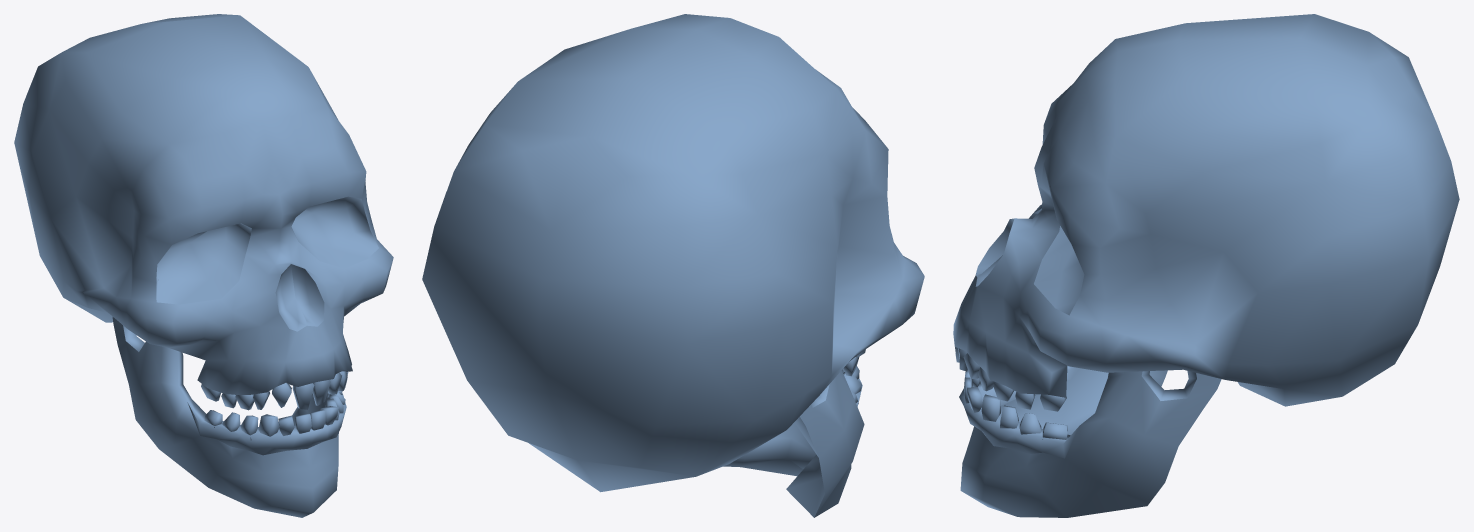
The model's file is skull_medium_mesh.FBX.
3 renders of one model, left to right at view 1: azimuth 30°, elevation 25°; view 2: azimuth 150°, elevation 25°; view 3: azimuth 270°, elevation 25°, orthographic. The views are drawn at different scales.
Visible parts, largest first — view 1: Skull_head_medium, Skull_jaw_medium; view 2: Skull_head_medium, Skull_jaw_medium; view 3: Skull_head_medium, Skull_jaw_medium.
Part boxes in pixels (x1=…): Skull_head_medium: x1=14, y1=14, x2=393, y2=410; Skull_jaw_medium: x1=112, y1=317, x2=347, y2=517; Skull_head_medium: x1=422, y1=14, x2=924, y2=492; Skull_jaw_medium: x1=723, y1=366, x2=864, y2=517; Skull_head_medium: x1=953, y1=14, x2=1459, y2=411; Skull_jaw_medium: x1=959, y1=366, x2=1221, y2=517.
Size of the model in its own units: 102 by 142 by 139.
